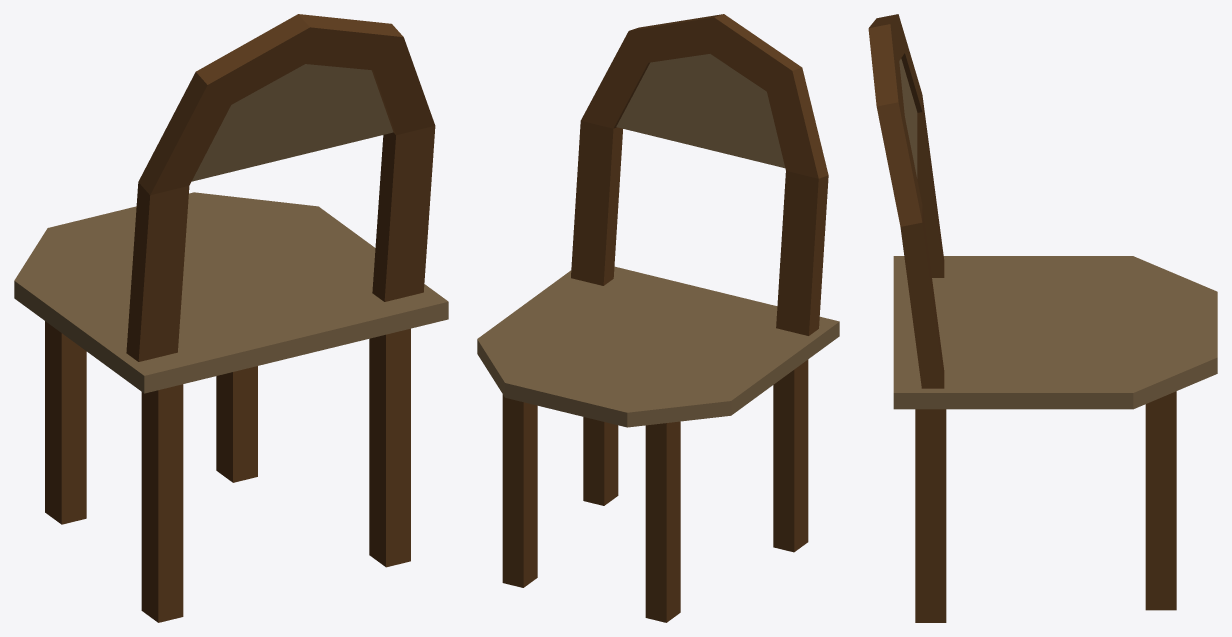
Rendered from SingleChair.fbx.
The picture shows the model from 3 angles, left to right: view 1: azimuth 30°, elevation 25°; view 2: azimuth 150°, elevation 25°; view 3: azimuth 270°, elevation 25°; orthographic projection. The views are drawn at different scales.
Parts seen in each view (by area): view 1: Cube.001, Cube, Cube.002, Cube.004, Cube.003, Cube.005; view 2: Cube.001, Cube, Cube.003, Cube.005, Cube.002, Cube.004; view 3: Cube, Cube.001, Cube.004, Cube.005.
Boxes of the visible parts, left/top/right/bottom form: Cube.001: left=126, top=14, right=435, bottom=361; Cube: left=14, top=192, right=448, bottom=393; Cube.002: left=141, top=384, right=183, bottom=622; Cube.004: left=369, top=328, right=410, bottom=567; Cube.003: left=45, top=321, right=86, bottom=524; Cube.005: left=216, top=366, right=257, bottom=482; Cube.001: left=571, top=14, right=828, bottom=335; Cube: left=477, top=266, right=839, bottom=427; Cube.003: left=645, top=421, right=680, bottom=622; Cube.005: left=502, top=394, right=537, bottom=587; Cube.002: left=773, top=359, right=808, bottom=552; Cube.004: left=583, top=417, right=618, bottom=505; Cube: left=893, top=256, right=1217, bottom=409; Cube.001: left=868, top=14, right=944, bottom=388; Cube.004: left=915, top=409, right=946, bottom=622; Cube.005: left=1145, top=391, right=1176, bottom=610.
Size of the model in its own units: 76.72 by 142 by 82.65.
